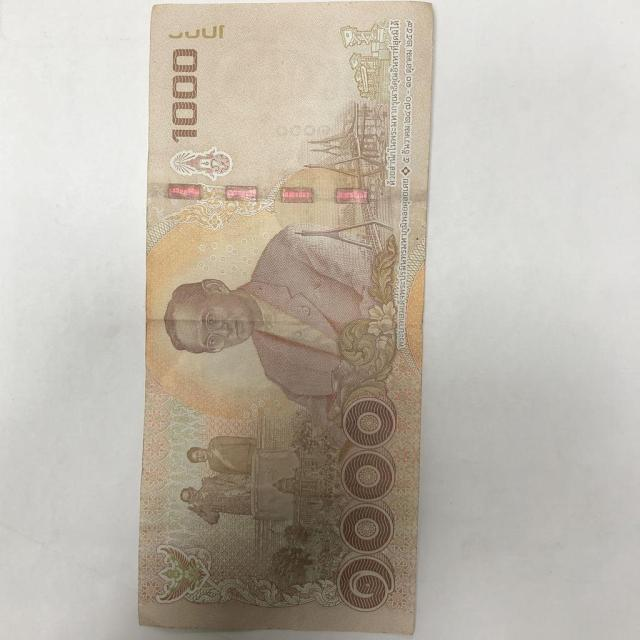THAI1000: (138, 0, 434, 634)
